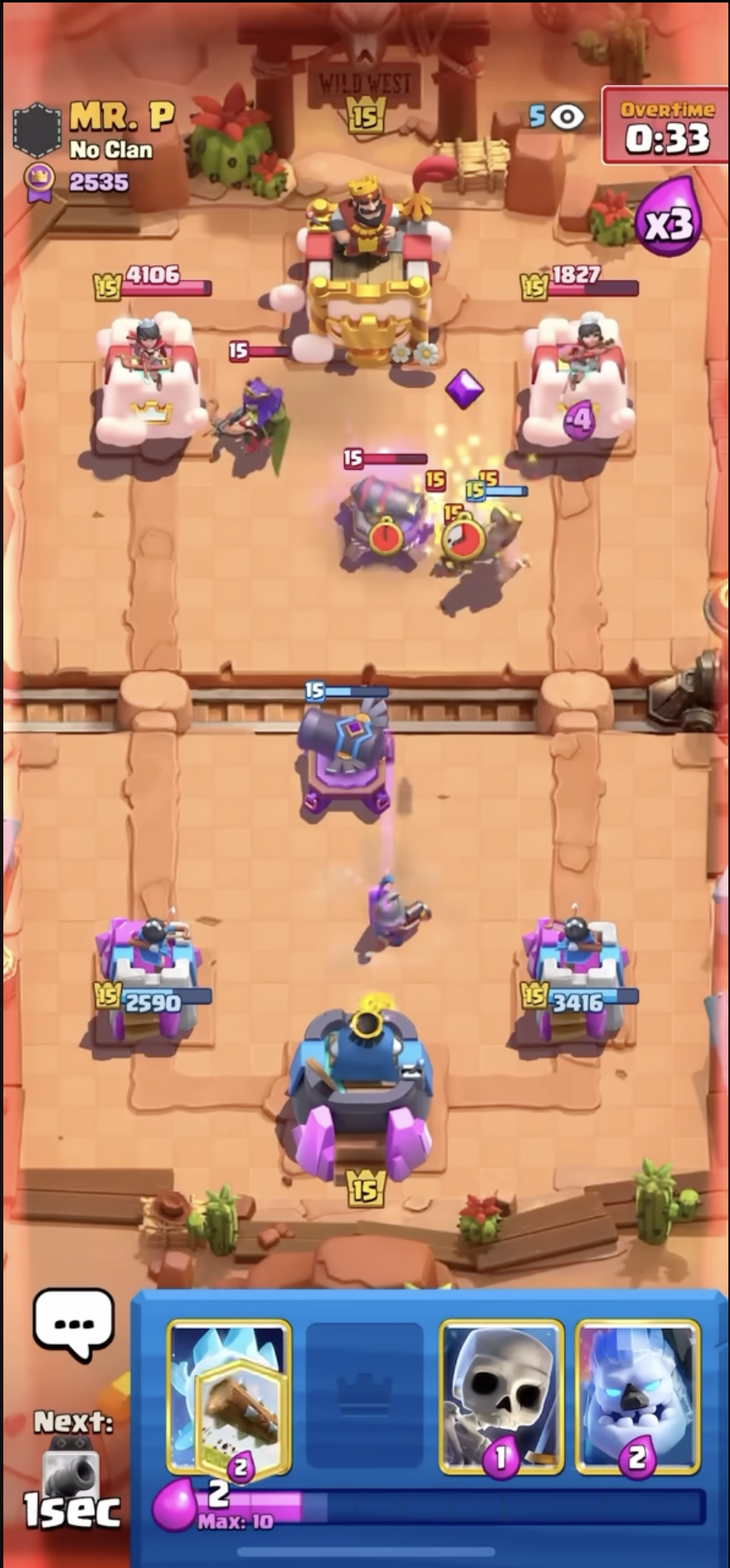evo_cannon: (290, 653, 406, 836)
evo_musketeer: (362, 855, 438, 964)
hog_rider: (456, 468, 542, 592)
